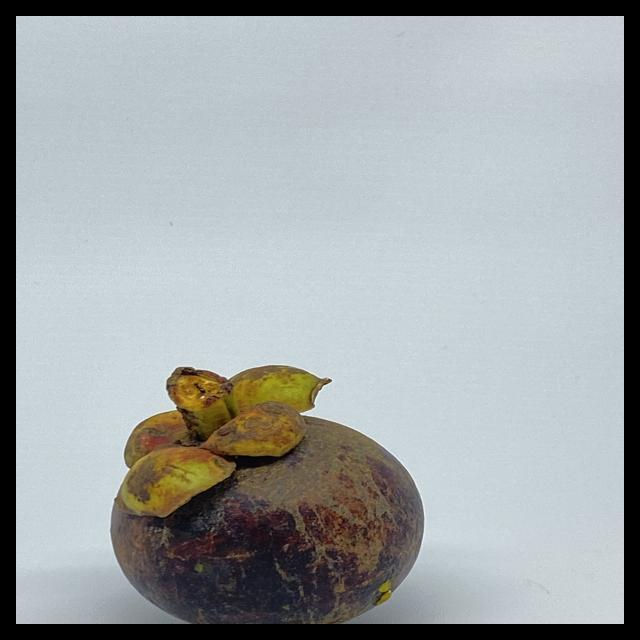mangosteen: (97, 346, 435, 624)
